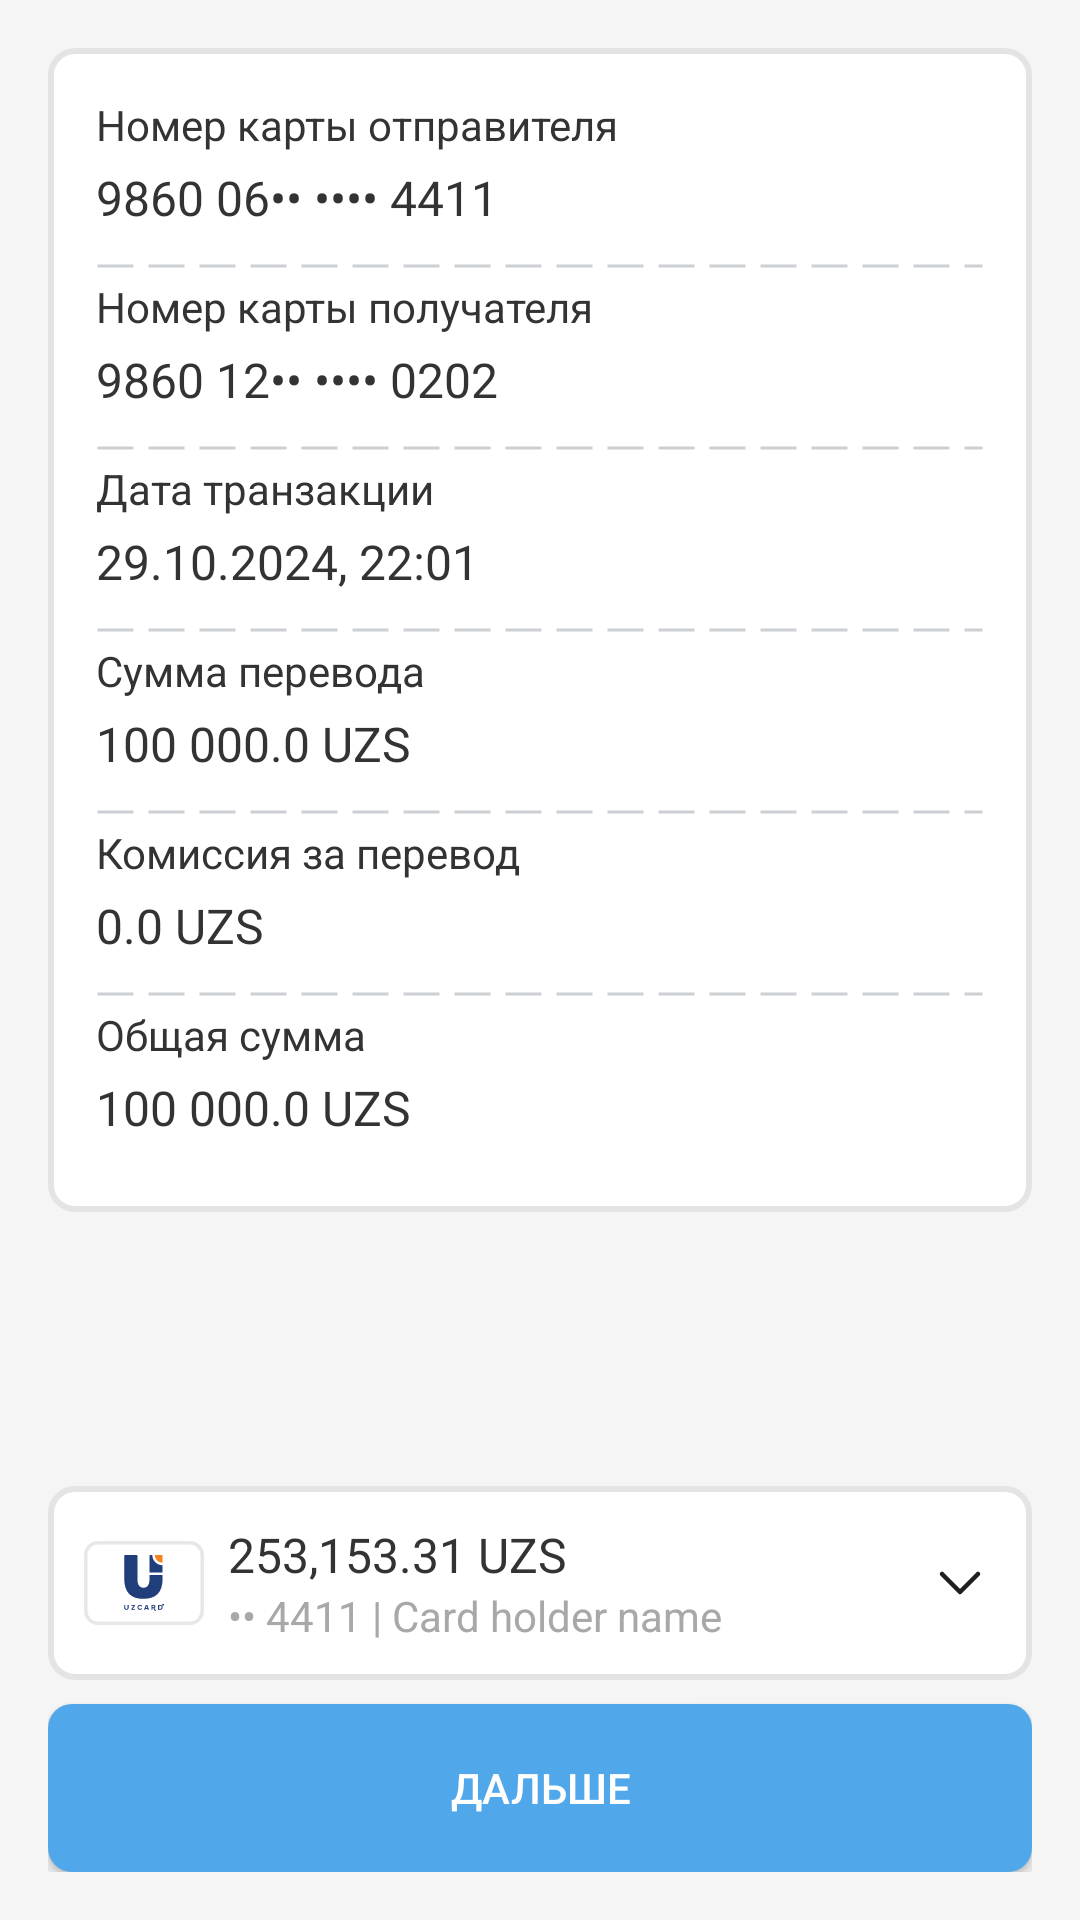

Where to tap for icons on this 1080 × 1920 app screen, as point (x, y):
dropdown: point (960, 1583)
